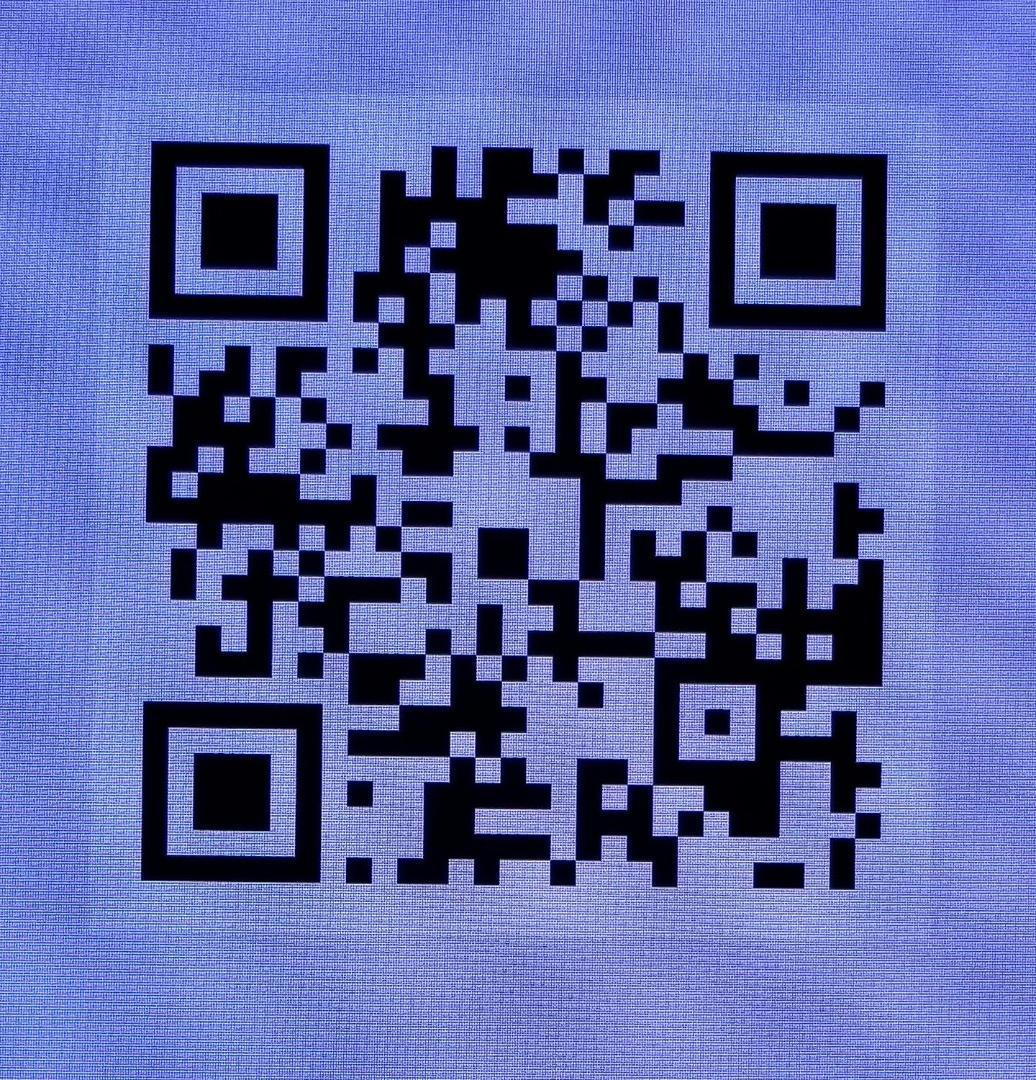Finder pattern: (137, 126, 348, 329), (691, 143, 901, 341), (133, 692, 334, 896)
